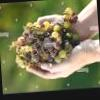Grape Rotten: (8, 6, 82, 70)
